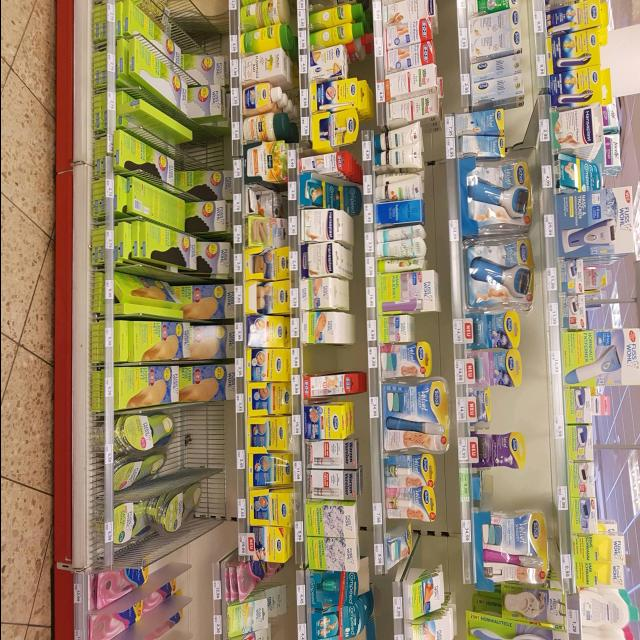empty_space: (171, 412, 201, 468), (301, 343, 349, 373), (483, 467, 517, 505)
